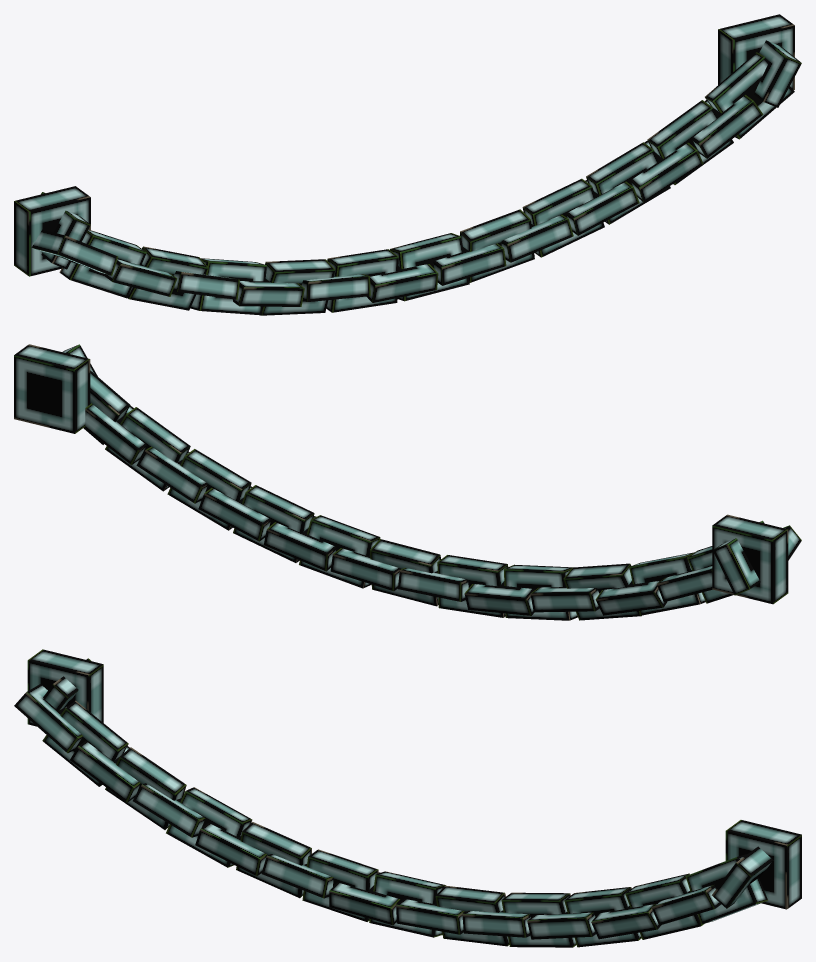
The model's file is deco_chains.FBX.
3 renders of one model, top to bottom at view 1: azimuth 30°, elevation 25°; view 2: azimuth 150°, elevation 25°; view 3: azimuth 330°, elevation 25°, orthographic.
Parts seen in each view (by area): view 1: deco_chains; view 2: deco_chains; view 3: deco_chains.
Boxes of the visible parts, x1,y1,x2,y2 form: deco_chains: (14,14,801,315); deco_chains: (14,344,801,620); deco_chains: (14,649,801,947).
Bounding box in the file's own units: 4.35 × 0.9207 × 0.4723.
Materials: 1 (1 with a texture image).
